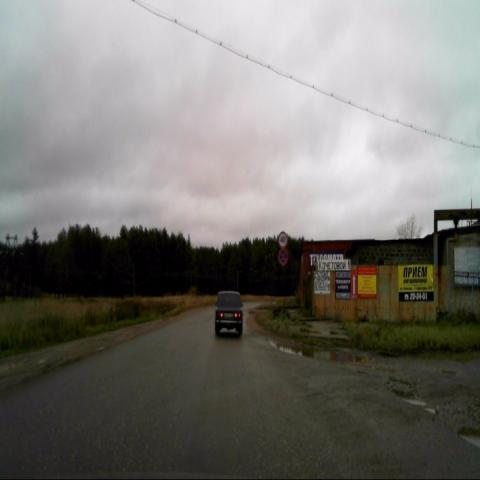3_24: (278, 232, 288, 248)
3_27: (278, 248, 288, 266)
